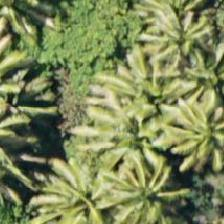coconut_tree: (102, 47, 192, 137), (136, 0, 223, 90), (101, 157, 191, 223), (33, 165, 123, 223), (168, 35, 223, 125), (130, 0, 220, 52)
